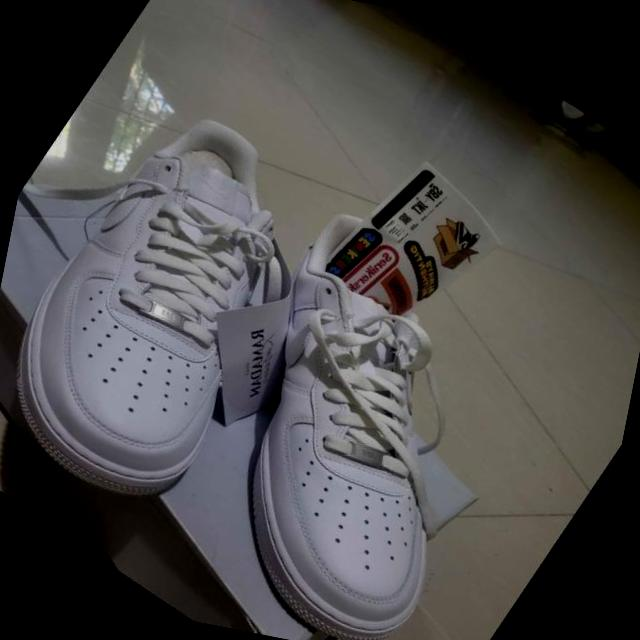nike_original_airforce: (110, 175, 603, 640), (0, 57, 387, 560)
